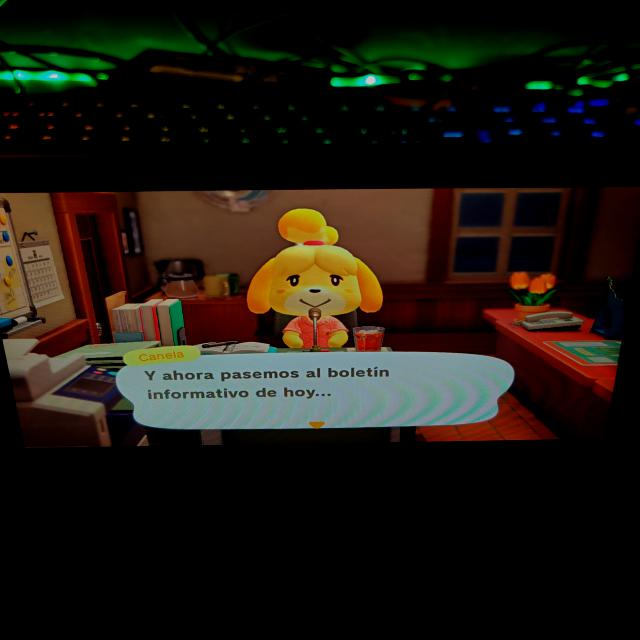text_bubble: (116, 346, 519, 432)
